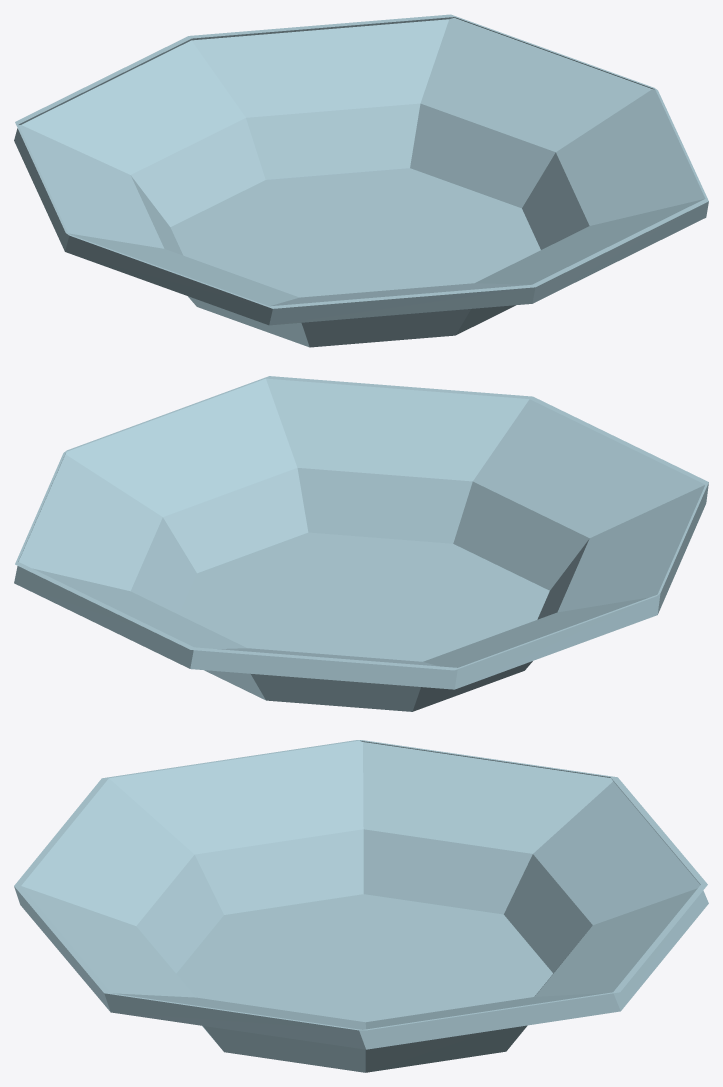
File: Kitchen_2_Plate.fbx
3 renders of one model, top to bottom at view 1: azimuth 30°, elevation 25°; view 2: azimuth 150°, elevation 25°; view 3: azimuth 270°, elevation 25°, orthographic.
Parts seen in each view (by area): view 1: Kitchen_2_Plate; view 2: Kitchen_2_Plate; view 3: Kitchen_2_Plate.
Part boxes in pixels (x1,y1,x2,y2): Kitchen_2_Plate: (14, 14, 708, 347); Kitchen_2_Plate: (14, 376, 708, 711); Kitchen_2_Plate: (14, 740, 708, 1072).
Size of the model in its own units: 43.32 by 7.47 by 43.71.
